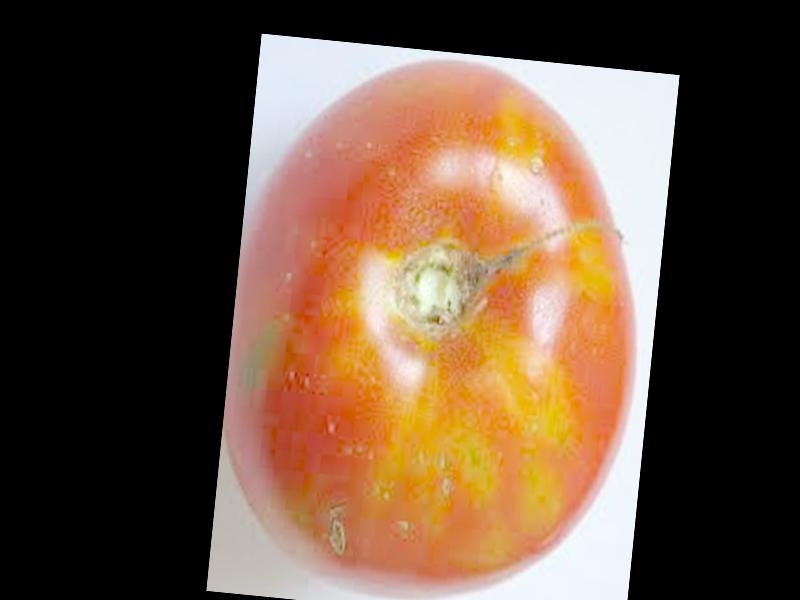Tomato: (209, 39, 663, 600)
